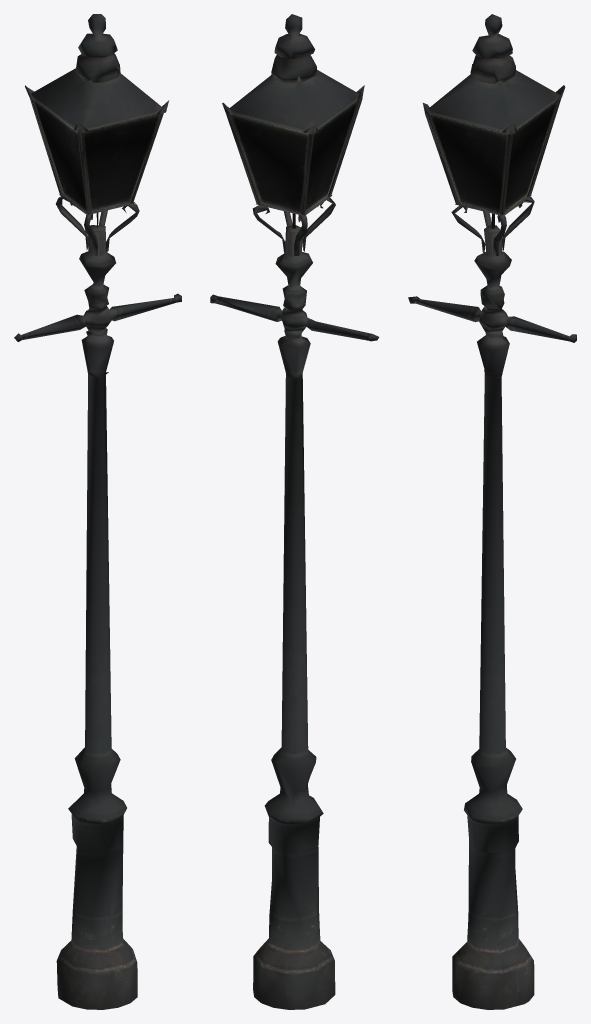
Rendered from street_lamp_01.glb.
3 renders of one model, left to right at view 1: azimuth 30°, elevation 25°; view 2: azimuth 150°, elevation 25°; view 3: azimuth 330°, elevation 25°, orthographic.
Parts seen in each view (by area): view 1: street_lamp_01; view 2: street_lamp_01; view 3: street_lamp_01.
Boxes of the visible parts, x1=… form: street_lamp_01: x1=14, y1=14, x2=181, y2=1009; street_lamp_01: x1=210, y1=14, x2=379, y2=1009; street_lamp_01: x1=408, y1=14, x2=576, y2=1009.
Size of the model in its own units: 0.6921 by 3.87 by 0.3852.
Materials: 2 (2 with a texture image).
